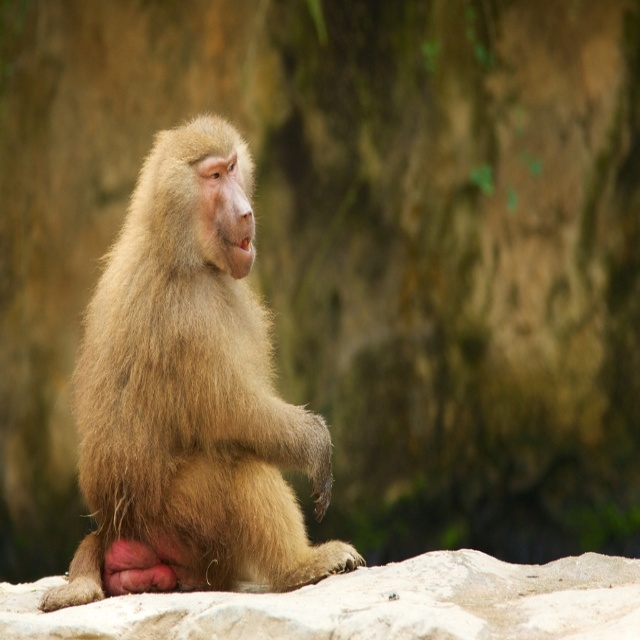Monkey: (40, 114, 368, 610)
